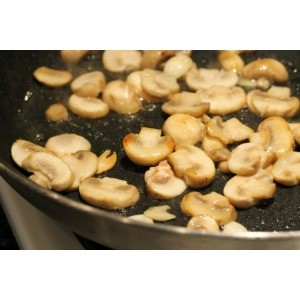mushroom_brain food: (118, 104, 285, 209)
